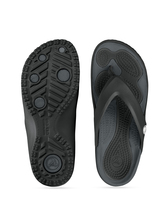shoes: (13, 41, 153, 188)
